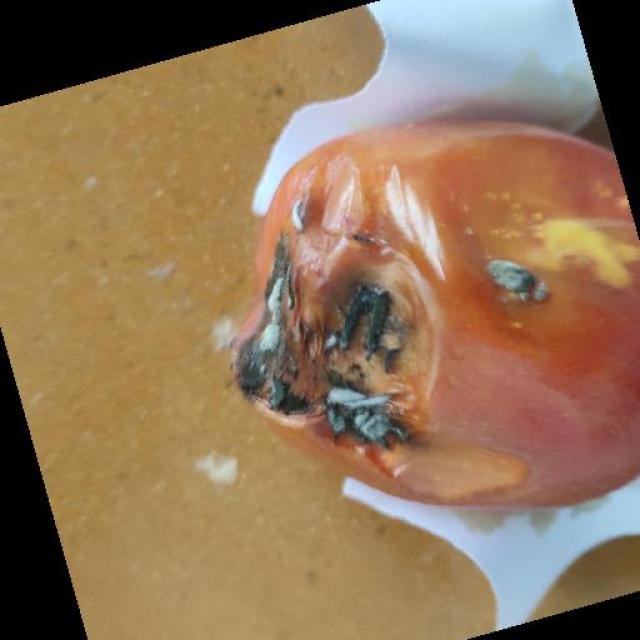Stale_tomato: (238, 129, 640, 543)
